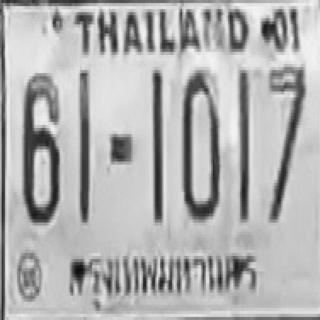N00: (181, 67, 219, 216)
N01: (78, 67, 90, 222), (236, 67, 248, 220), (151, 67, 162, 222)
N06: (22, 72, 58, 221)
N07: (267, 64, 305, 220)
P04: (68, 245, 258, 299)
